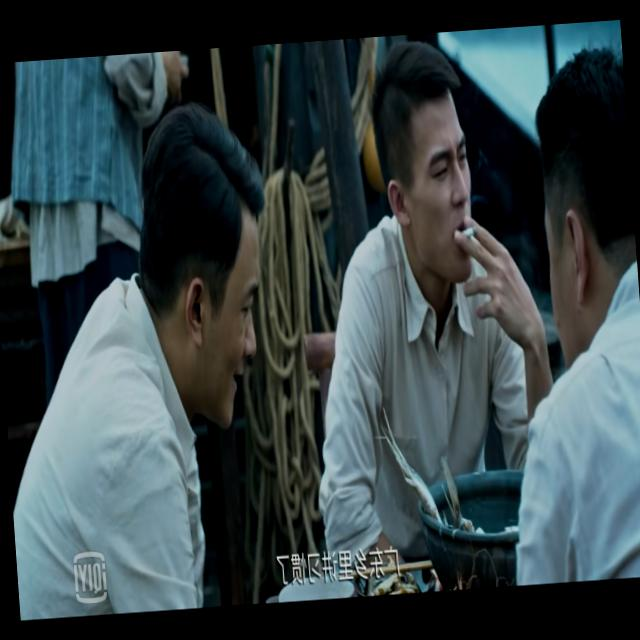smoke: (460, 224, 476, 239)
